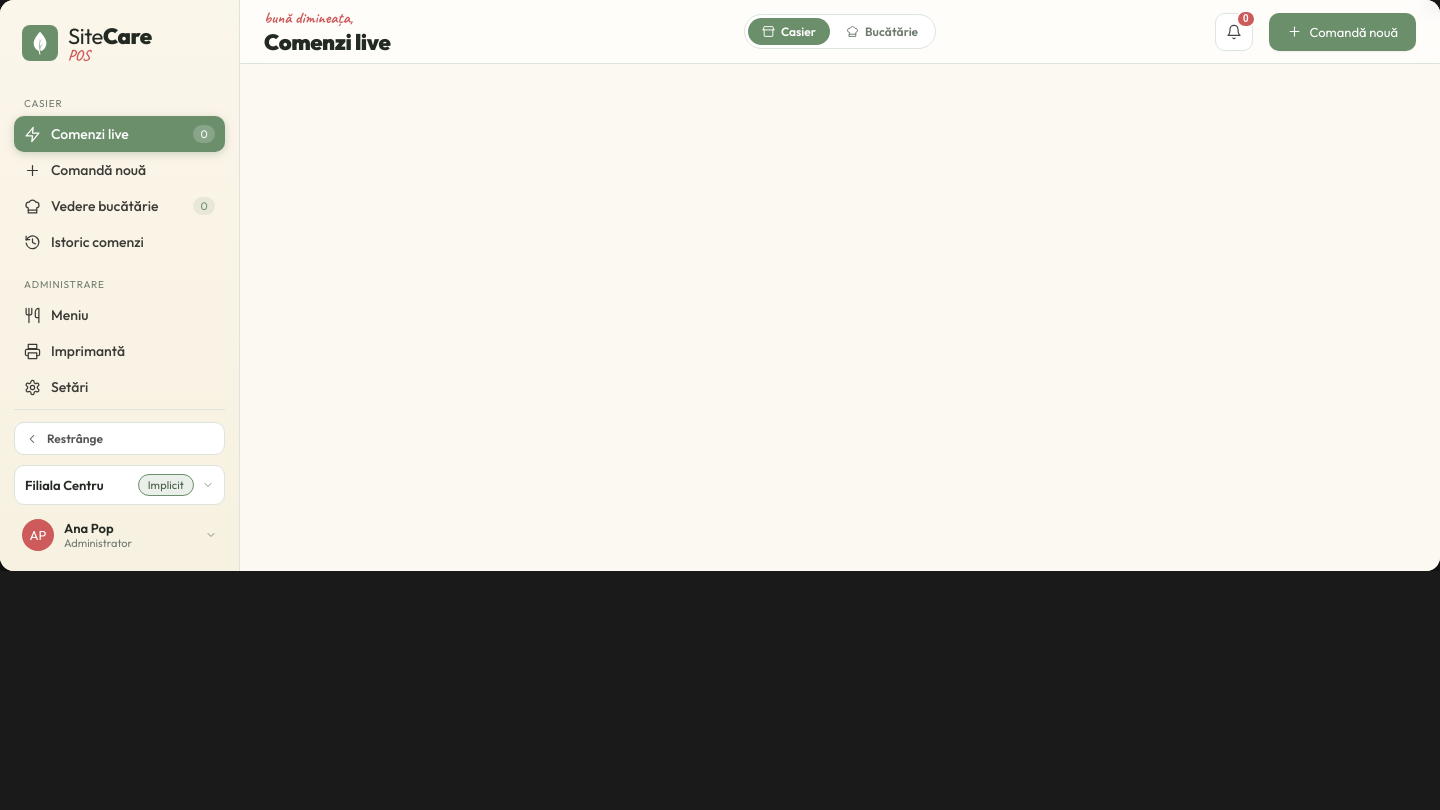
Test case: SWCH-01: default badge + multi-branch trigger › popover row for the default branch also carries the default badge
Click the element titled "Filiala Centru" at (120, 485), box [14,465,225,505]
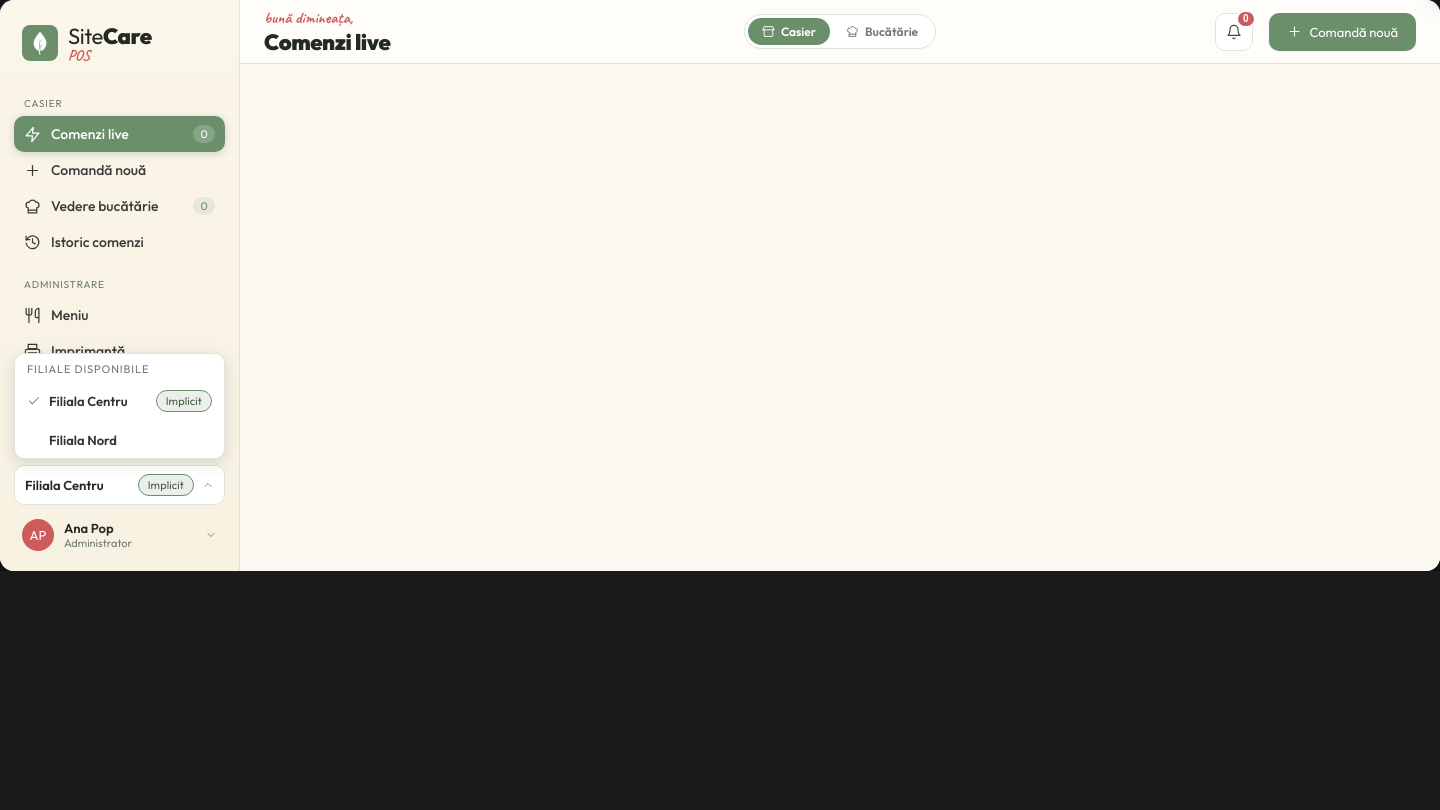
Now the text "Implicit" is shown 2 times, box [156,390,212,412]; [138,474,194,496]
Now the text "Filiala Nord" is shown, box [49,432,117,448]
